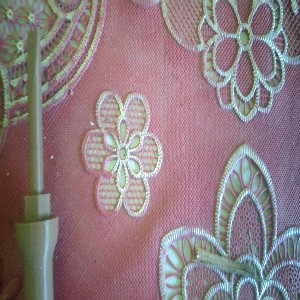obeng: (13, 30, 60, 300)
